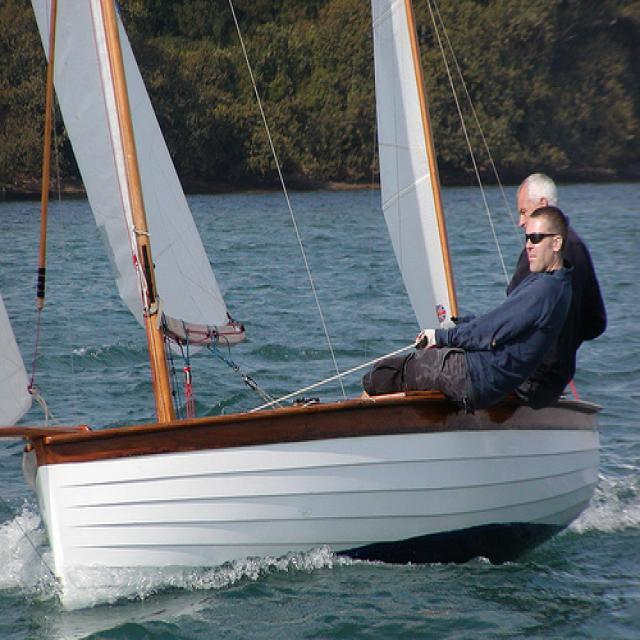Ship: (12, 4, 605, 607)
